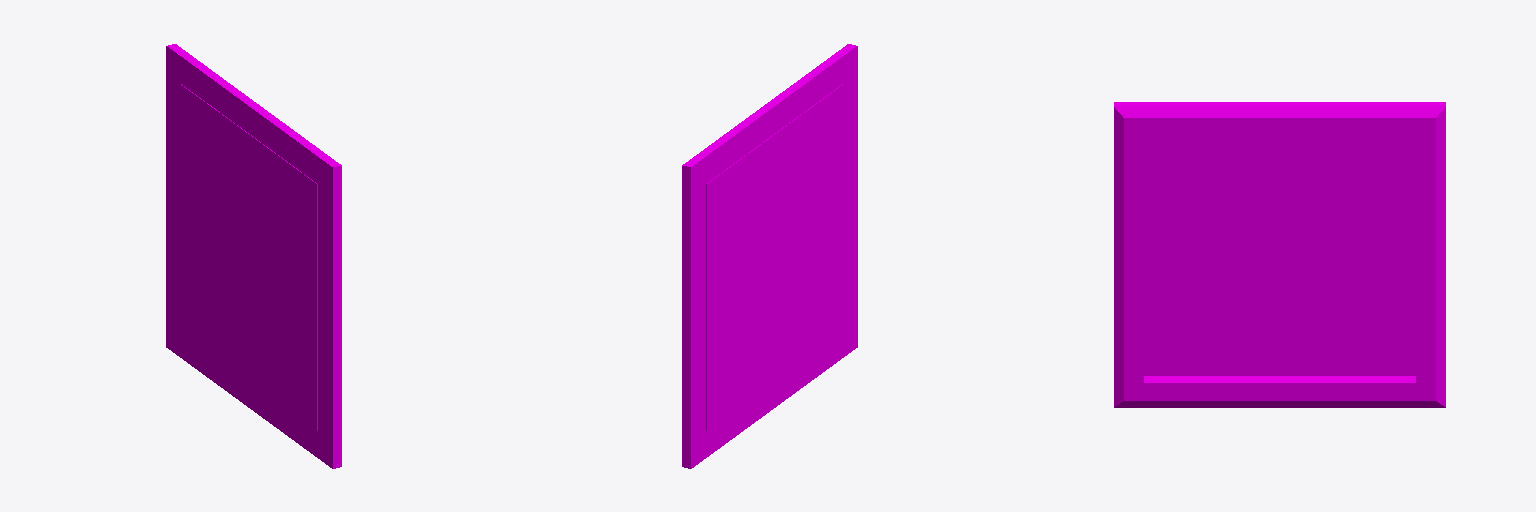
File: Shortcut.obj
3 views of the same model, side by side, from view 1: azimuth 30°, elevation 25°; view 2: azimuth 150°, elevation 25°; view 3: azimuth 270°, elevation 25° (orthographic).
Visible parts, largest first — view 1: Shortcut; view 2: Shortcut; view 3: Shortcut.
Boxes of the visible parts, <box> form: Shortcut: <box>166,44,341,468</box>; Shortcut: <box>682,44,857,468</box>; Shortcut: <box>1114,102,1445,407</box>.
Bounding box in the file's own units: 0.0316 × 0.65 × 0.65.